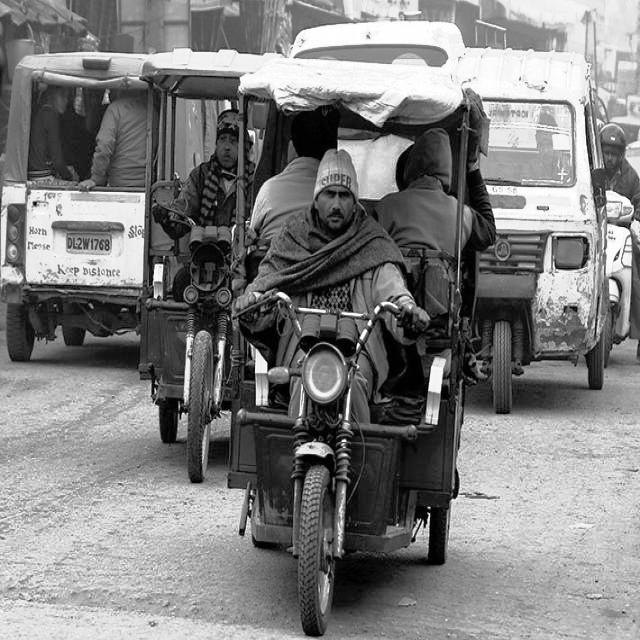Toto: (229, 58, 471, 626), (138, 44, 244, 479)
